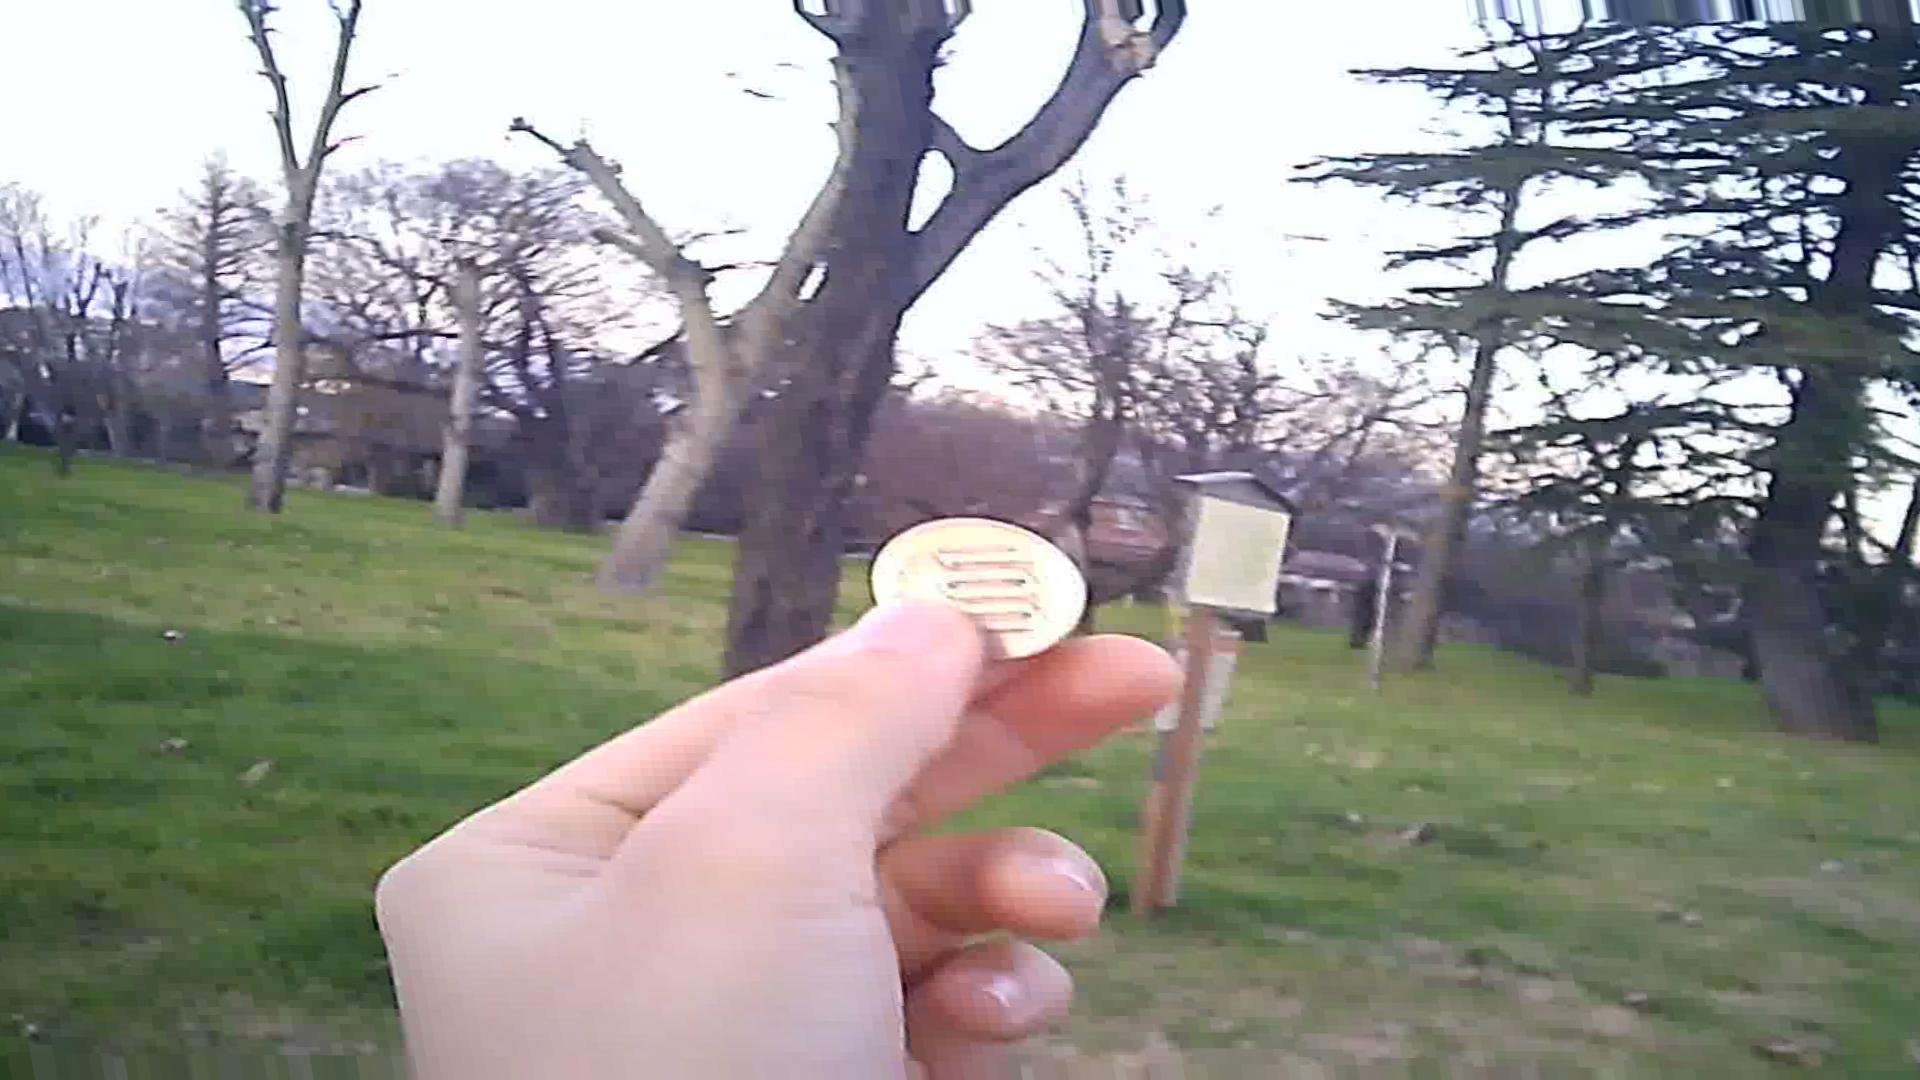100 Yen: (866, 518, 1088, 670)
